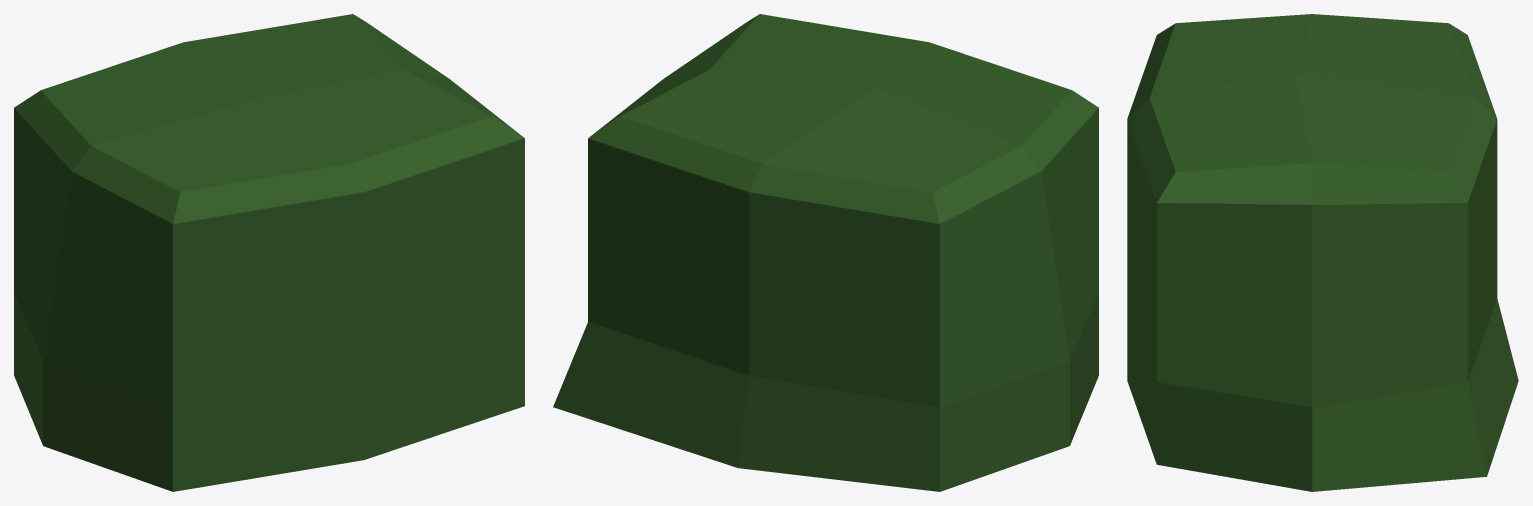
Rendered from Rock4.FBX.
3 renders of one model, left to right at view 1: azimuth 30°, elevation 25°; view 2: azimuth 150°, elevation 25°; view 3: azimuth 270°, elevation 25°, orthographic. The views are drawn at different scales.
Parts seen in each view (by area): view 1: Rock4; view 2: Rock4; view 3: Rock4.
Part boxes in pixels (x1=…): Rock4: x1=14, y1=14, x2=524, y2=491; Rock4: x1=553, y1=14, x2=1098, y2=491; Rock4: x1=1127, y1=14, x2=1518, y2=491.
Size of what is drawn, in the model's own units: 167 by 126 by 105.
